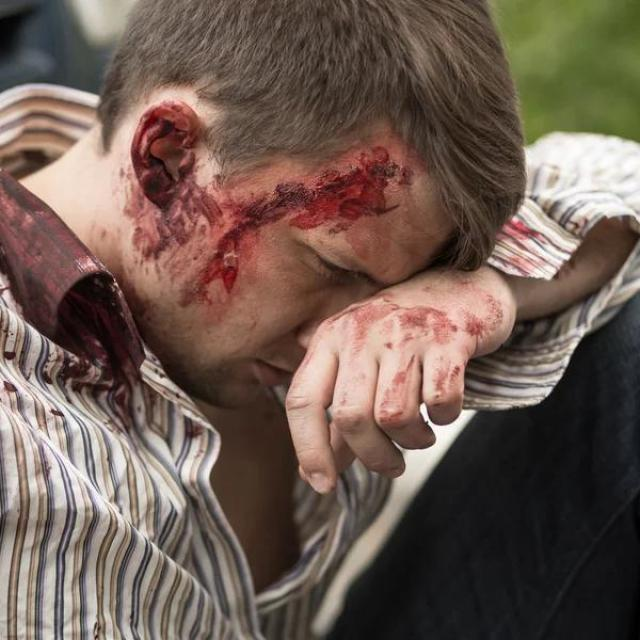flood: (190, 157, 406, 295)
